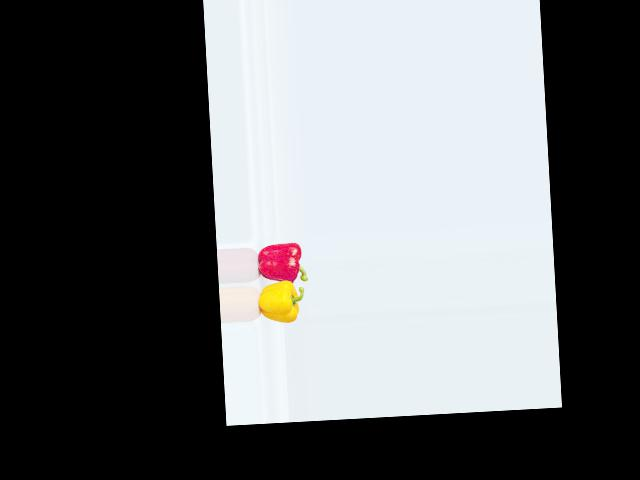bell_pepper: (251, 238, 306, 285)
